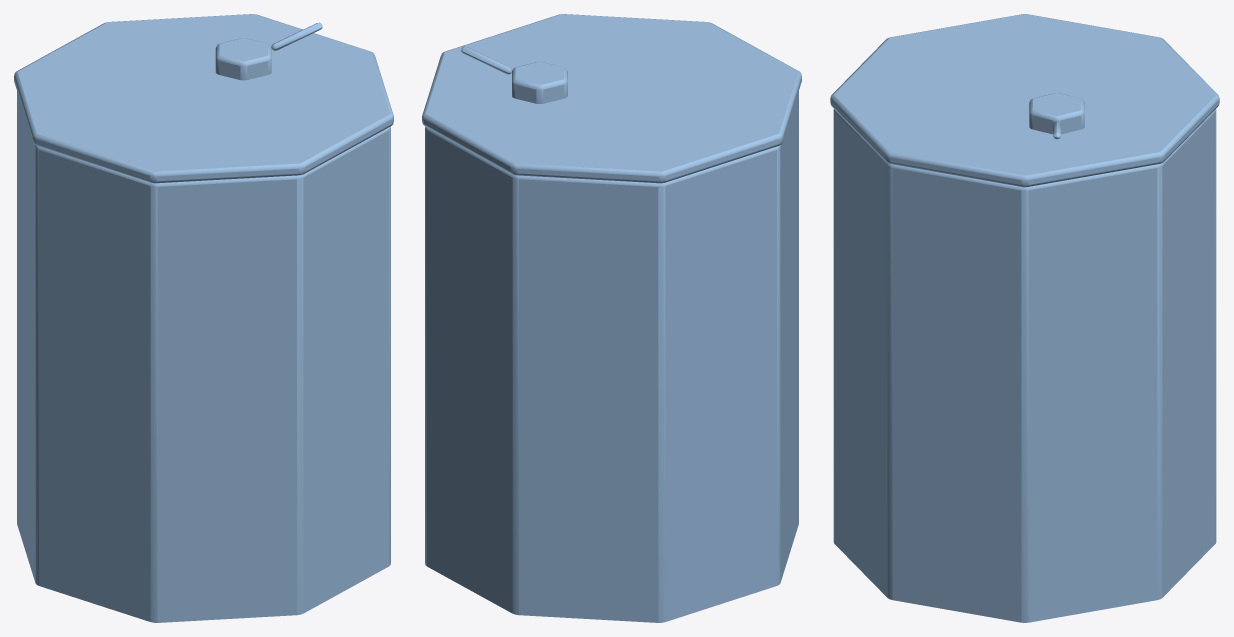
Rendered from ThungNuoc_Nap.glb.
3 views of the same model, side by side, from view 1: azimuth 30°, elevation 25°; view 2: azimuth 150°, elevation 25°; view 3: azimuth 270°, elevation 25° (orthographic).
Parts seen in each view (by area): view 1: geometry_0; view 2: geometry_0; view 3: geometry_0.
Boxes of the visible parts, x1=… form: geometry_0: x1=14, y1=14, x2=393, y2=622; geometry_0: x1=422, y1=14, x2=801, y2=622; geometry_0: x1=830, y1=14, x2=1219, y2=622.
Bounding box in the file's own units: 0.6073 × 0.8146 × 0.6073.
